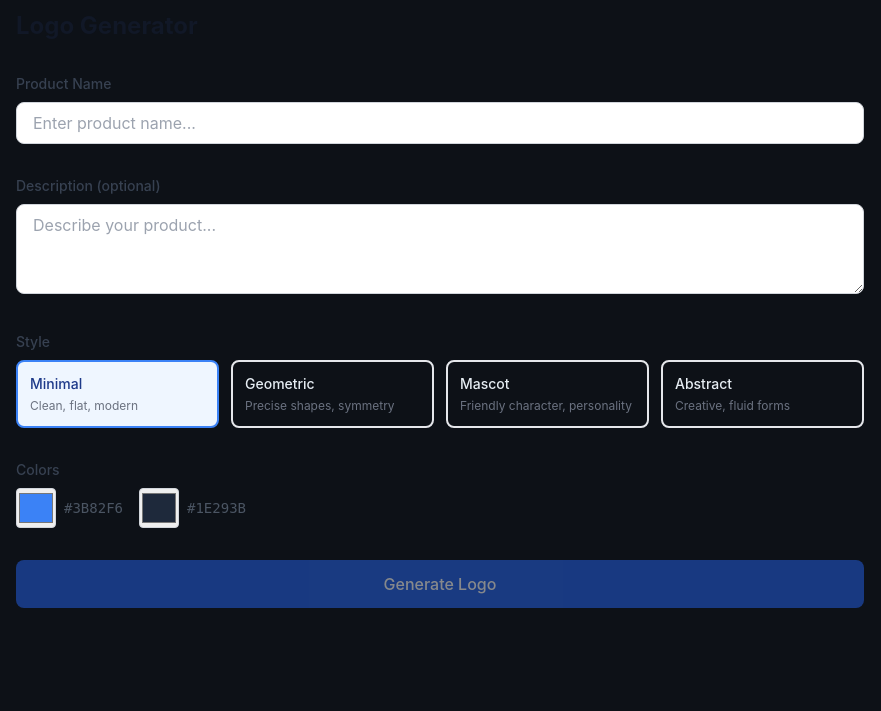
Test case: LogoGenerator › shows error on network failure
In the field with placeholder "Enter product name...": (440, 123) [16, 102, 864, 144], type "MyApp"
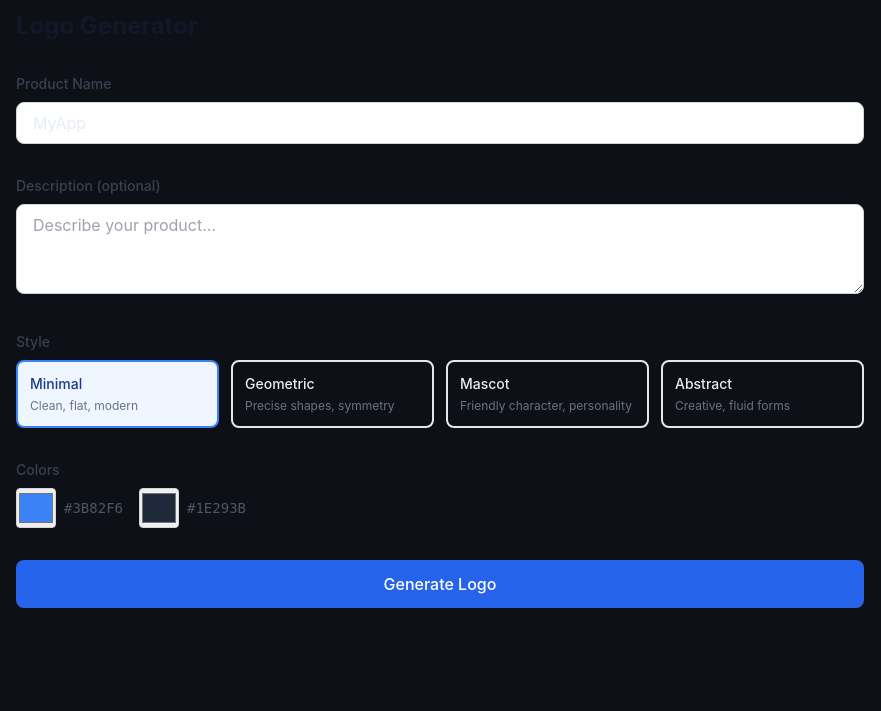
Click the button "Generate Logo": click(440, 584) [16, 560, 864, 608]
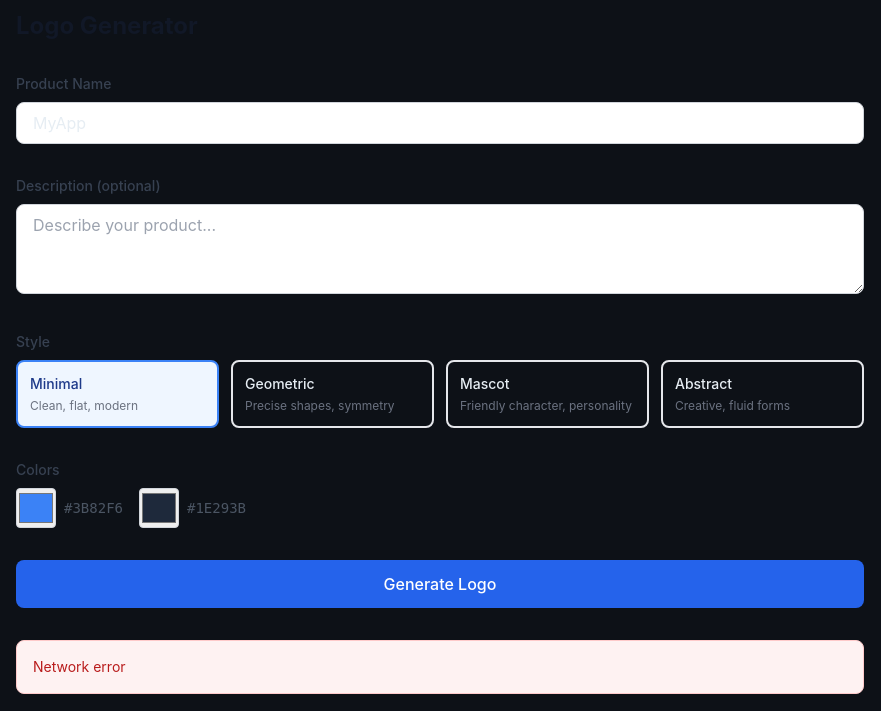
Now the text "Network error" is shown, box [16, 640, 864, 694]
